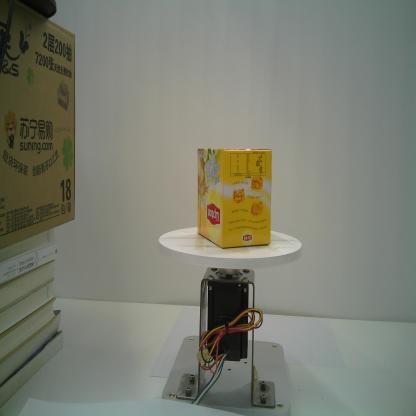Instant Drink: (196, 146, 273, 249)
